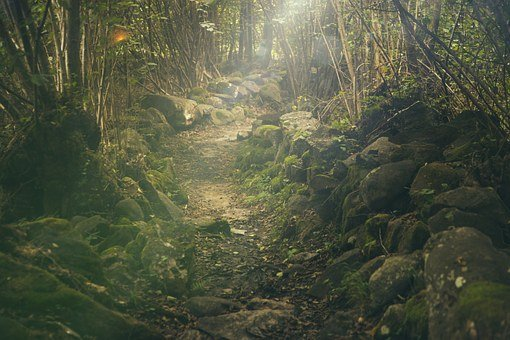forest: (3, 4, 509, 331)
stone: (303, 94, 509, 340)
